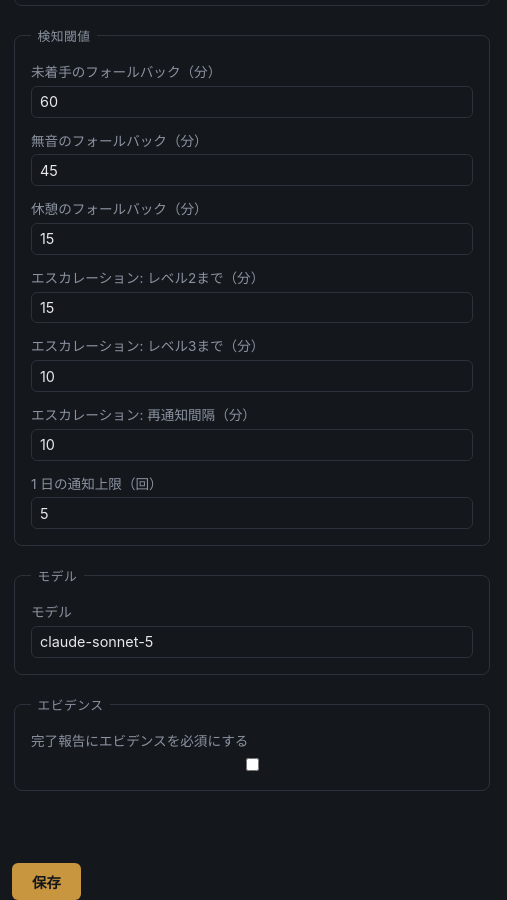
Scenario: SettingsView › 会の時刻と稼働時間帯の整合警告（#708） › 警告が 1 件のとき、その message が role=alert で表示され、「保存しました」も表示される
This screenshot has width=507, height=900.
(page scrolled)
Click the button "保存": (46, 881) [12,862,81,899]
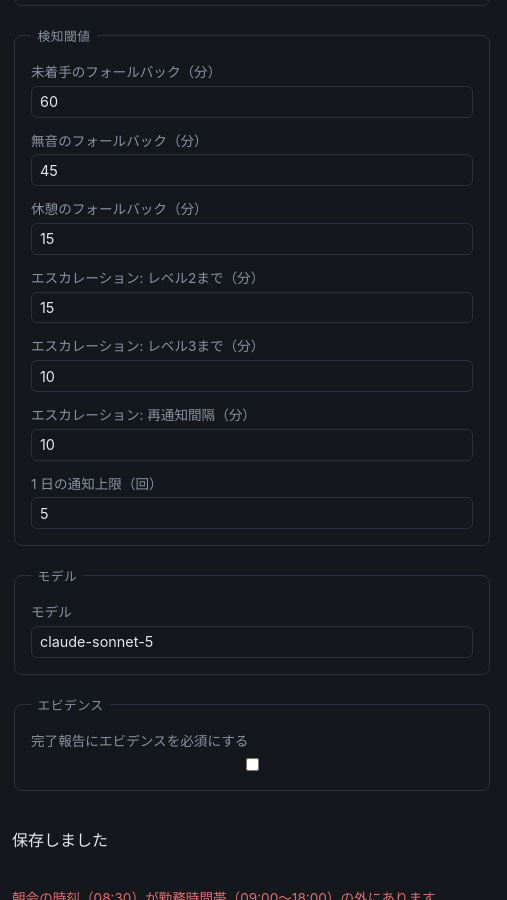
Result: the text "保存しました" is shown at [12,830,108,850]
